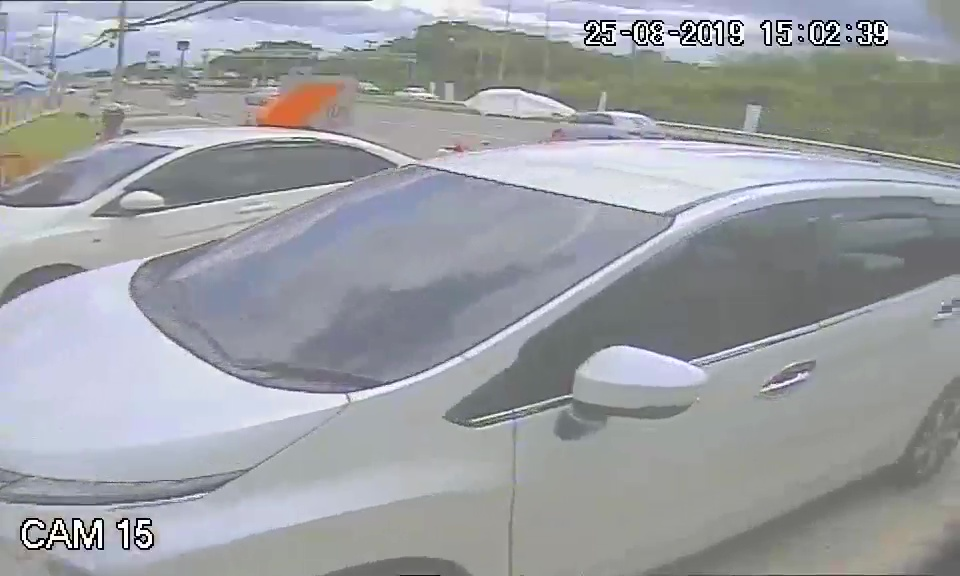sedan: (13, 140, 960, 575)
